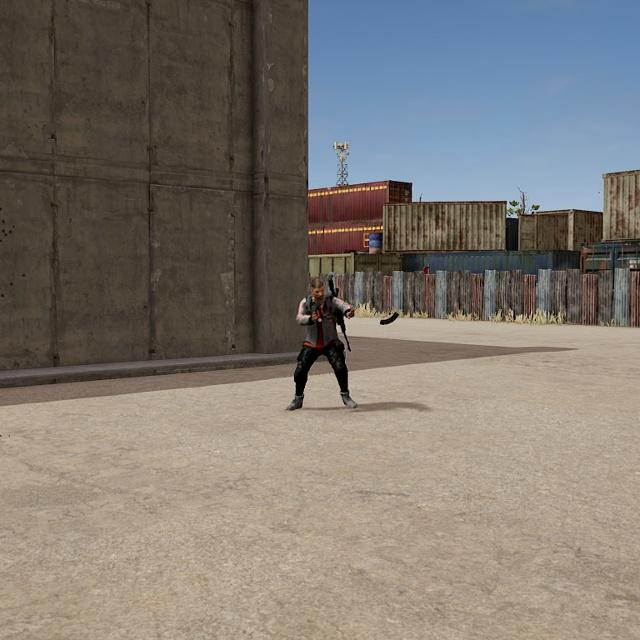head: (309, 275, 327, 300)
people: (285, 274, 359, 412)
